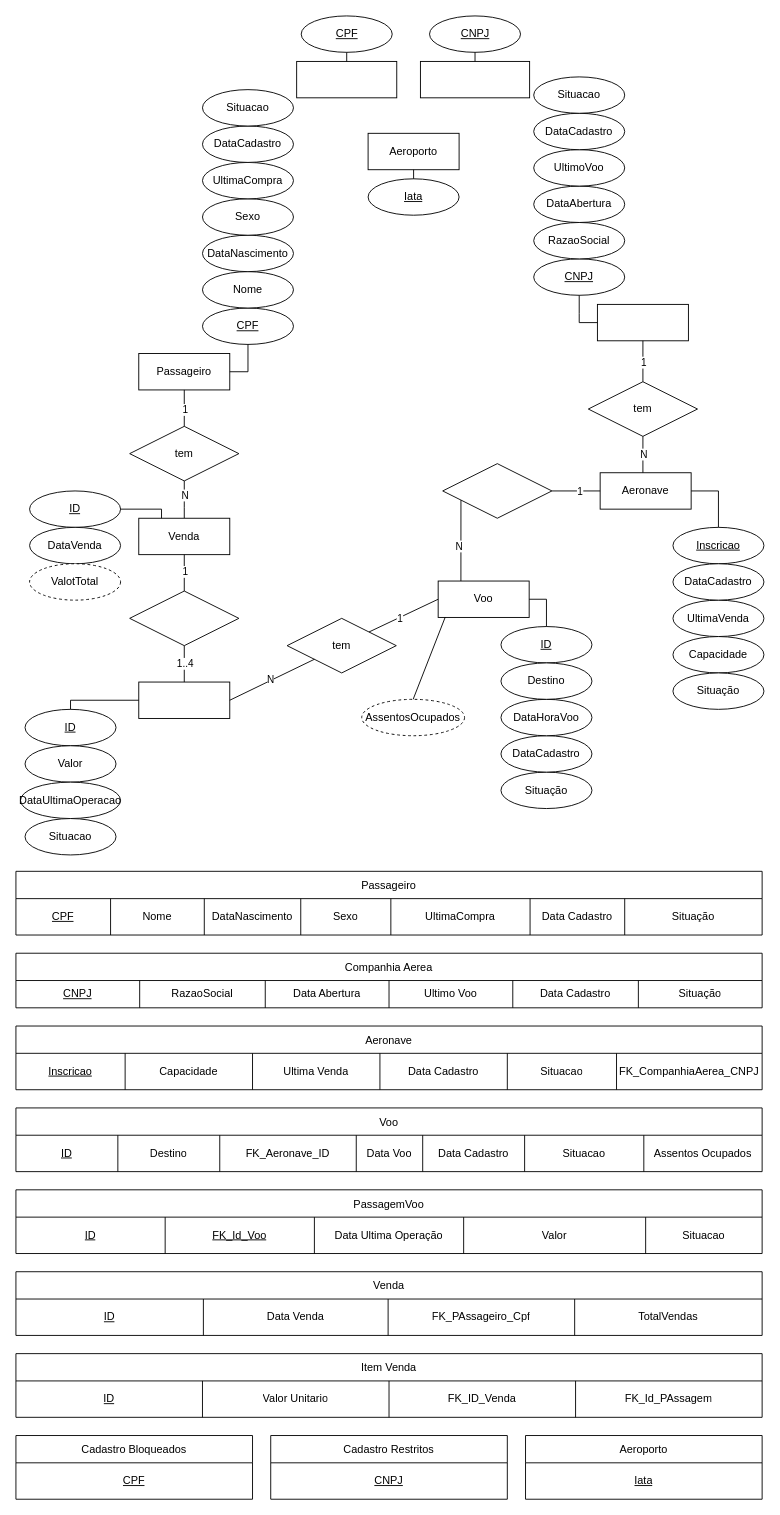
The diagram is 780 pixels wide and 1515 high, and some of its shapes have lost their labels. The centre of each missing label's shape, as x and y in pixels:
"CadastroBloqueados" goes at point 475,79.
"CadastroRestritos" goes at point 346,79.
"Companhia Aérea" goes at point 642,322.
"Passagem" goes at point 184,699.
"possui" goes at point 184,618.
"Realiza" goes at point 497,490.
